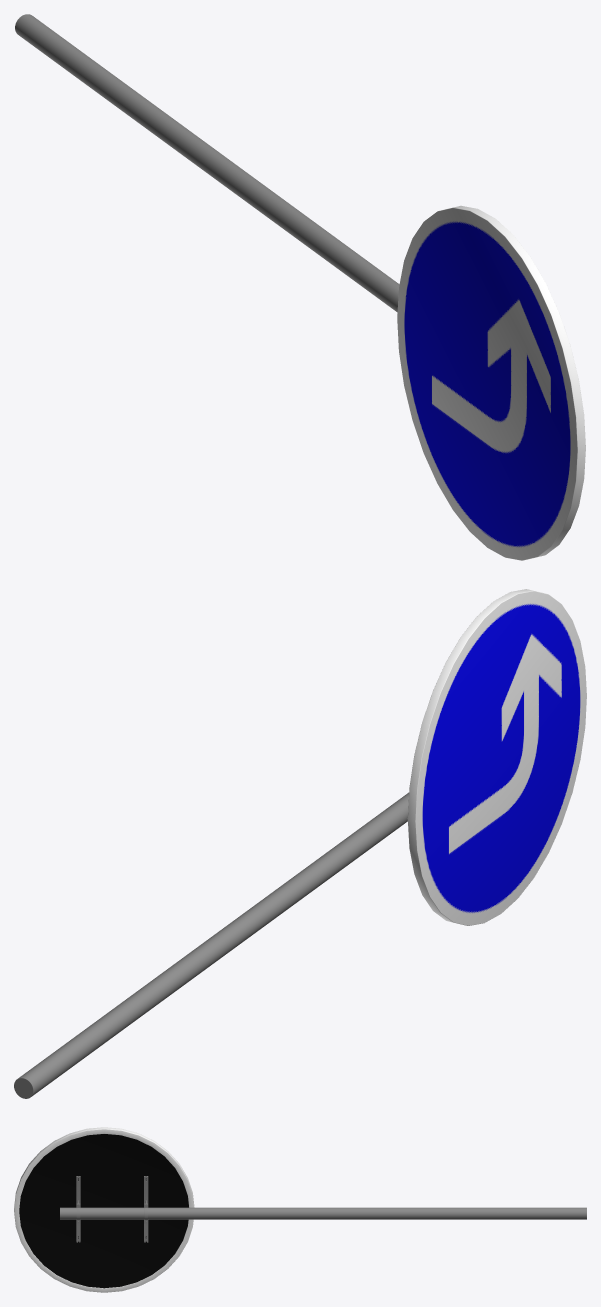
File: left_sign.obj
3 renders of one model, top to bottom at view 1: azimuth 30°, elevation 25°; view 2: azimuth 150°, elevation 25°; view 3: azimuth 270°, elevation 25°, orthographic. The views are drawn at different scales.
Visible parts, largest first — view 1: sign.021, rod.021; view 2: sign.021, rod.021; view 3: sign.021, rod.021.
Part boxes in pixels (<box>): sign.021: <box>397,205,585,560</box>; rod.021: <box>15,14,399,312</box>; sign.021: <box>407,589,586,925</box>; rod.021: <box>14,792,408,1098</box>; sign.021: <box>14,1127,194,1292</box>; rod.021: <box>60,1176,586,1242</box>.
Size of the model in its own units: 0.0774 by 0.7529 by 2.39.
Materials: 3 (1 with a texture image).
